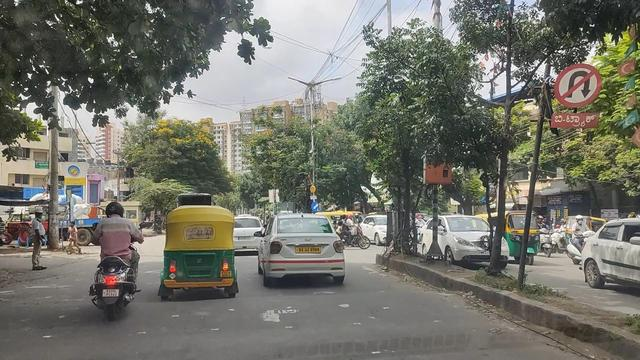LMV: (165, 205, 241, 299), (260, 215, 346, 283), (95, 201, 141, 314)
SpeedBump: (16, 290, 450, 330)
